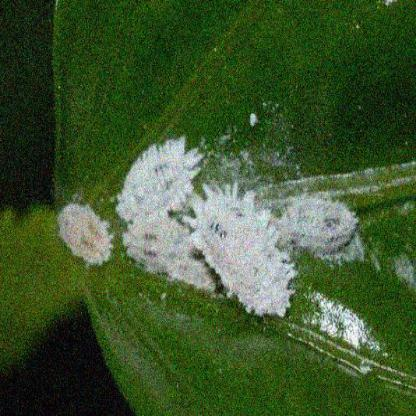mealy bug: (192, 191, 289, 318), (114, 144, 202, 218), (283, 203, 359, 253), (124, 218, 194, 270), (58, 207, 111, 263)
